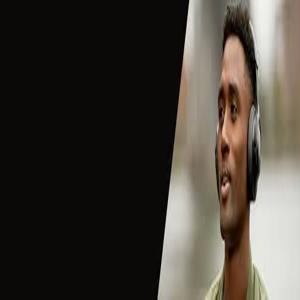Headphones: (216, 6, 263, 203)
